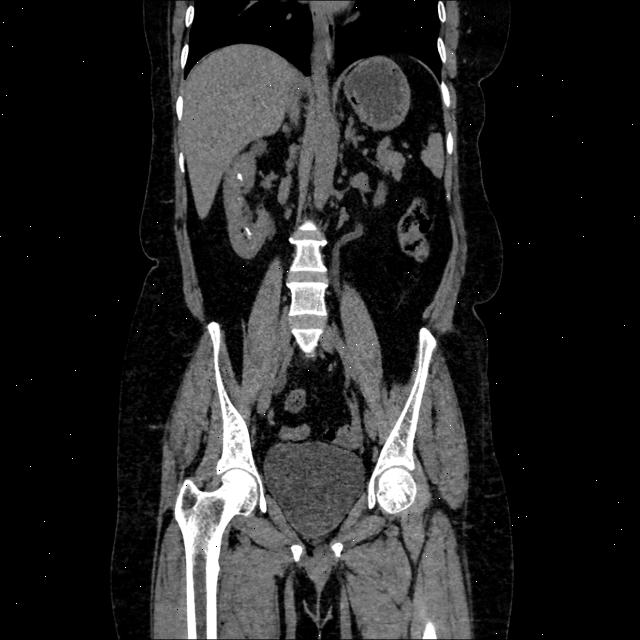kidneystone: (242, 227, 250, 241), (238, 173, 242, 181), (246, 235, 251, 239)
